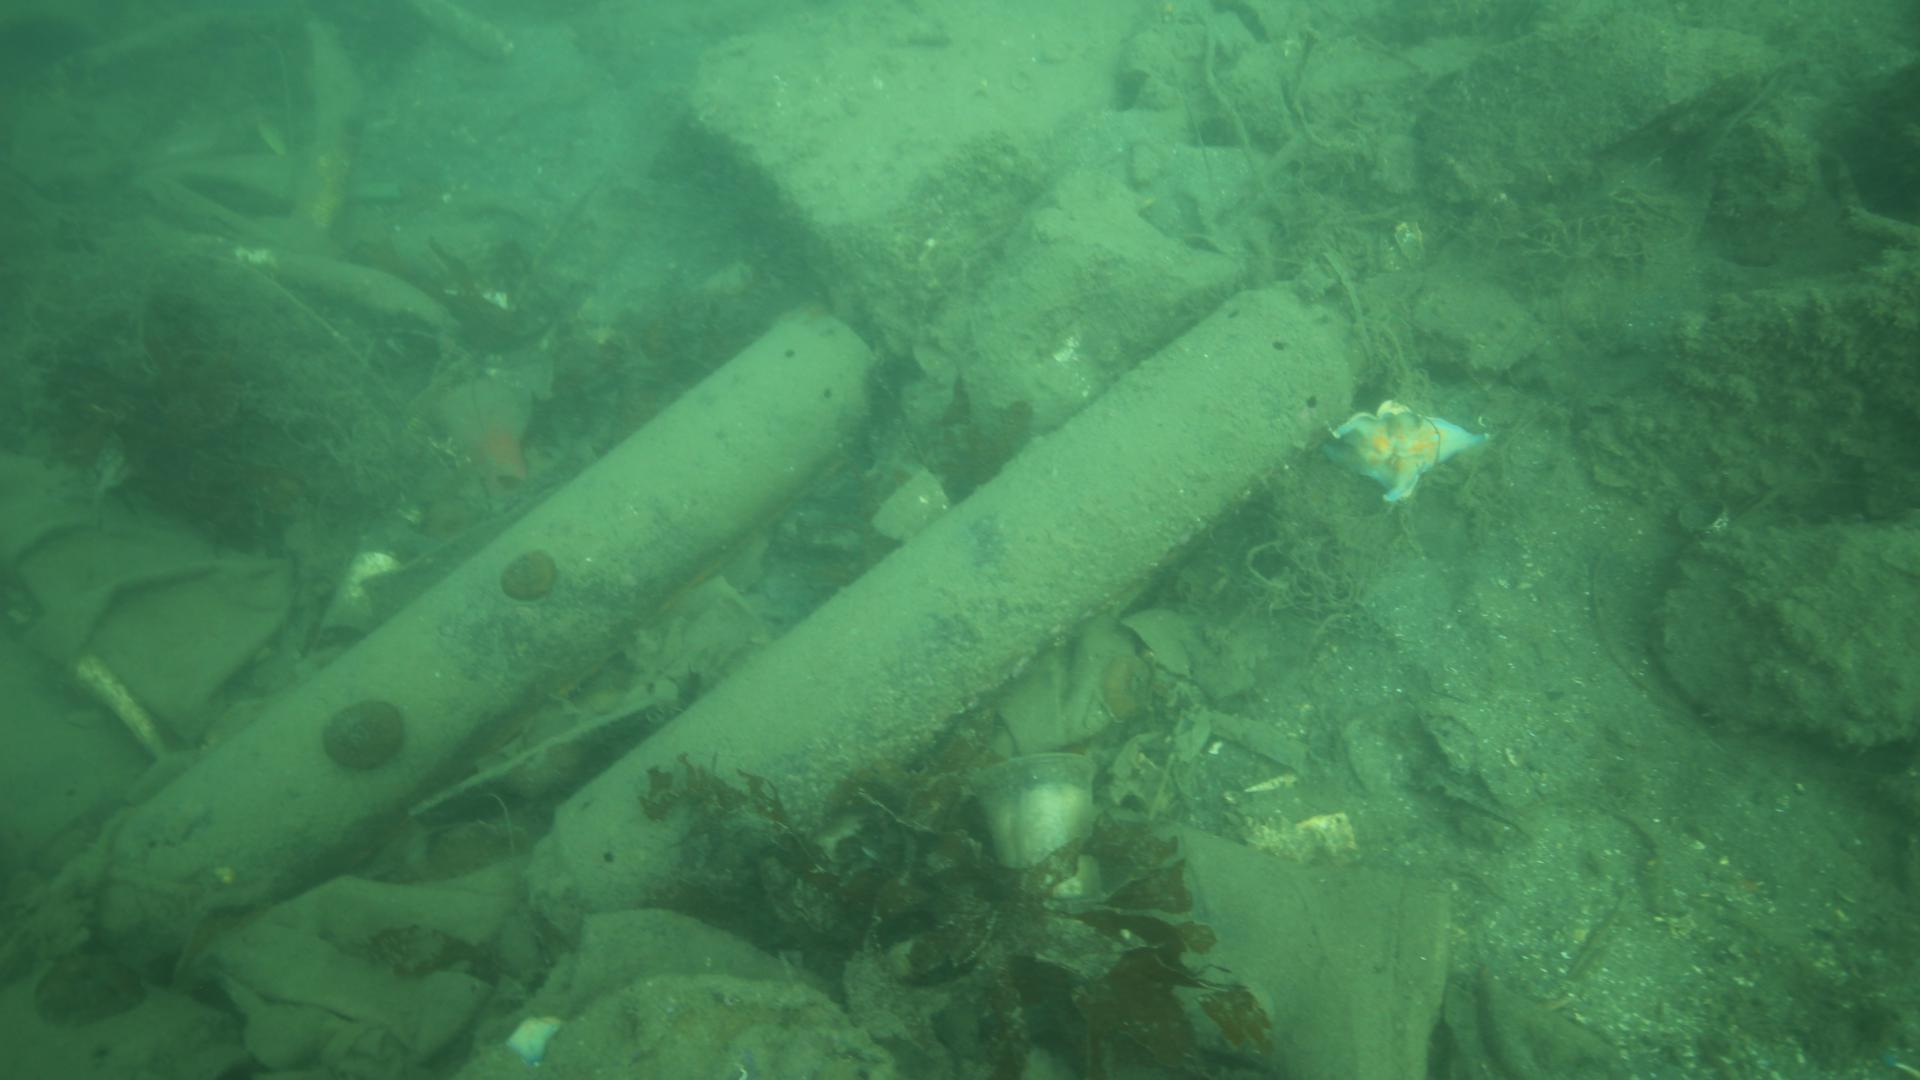eel fish trap: (533, 280, 1370, 915), (112, 301, 882, 927)
